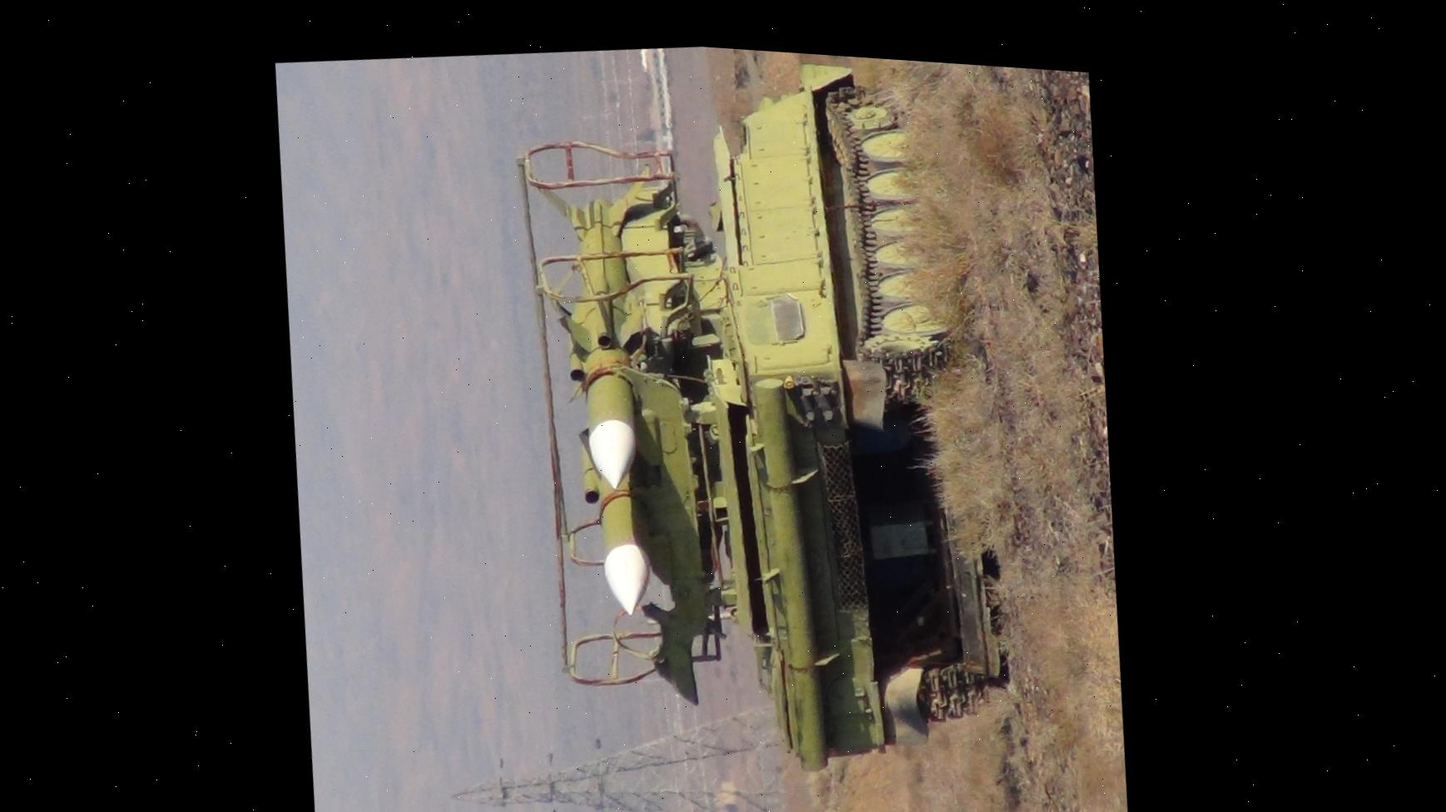armored_car: (479, 34, 1045, 812)
